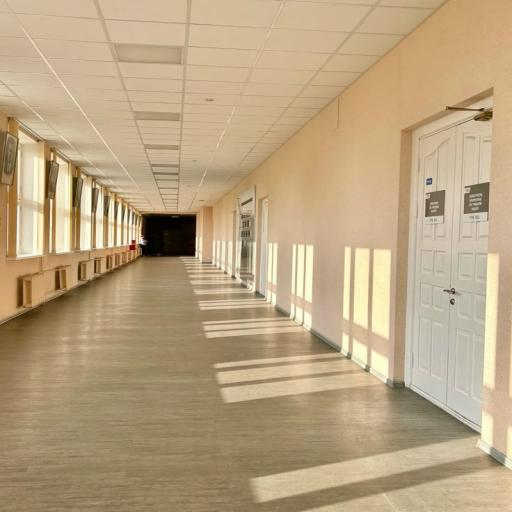child: (0, 0, 512, 512)
corridor: (412, 121, 491, 425), (447, 121, 491, 424), (259, 199, 268, 295)
